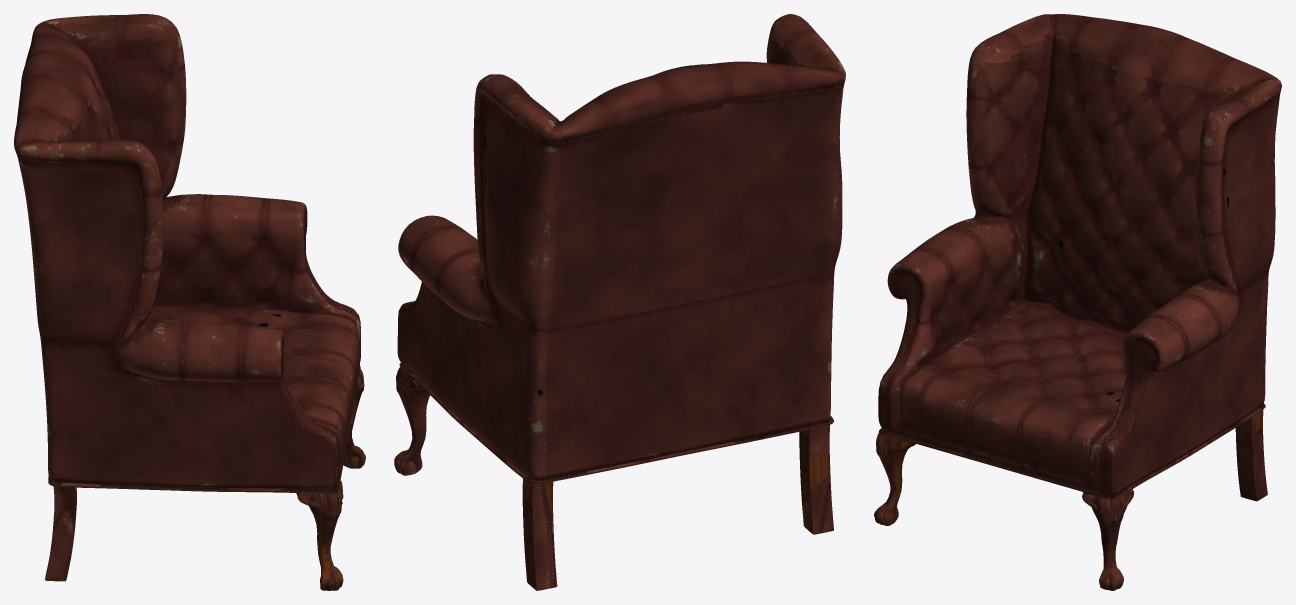
3 renders of one model, left to right at view 1: azimuth 30°, elevation 25°; view 2: azimuth 150°, elevation 25°; view 3: azimuth 270°, elevation 25°, orthographic. The views are drawn at different scales.
Parts seen in each view (by area): view 1: Object_6.003_Baked; view 2: Object_6.003_Baked; view 3: Object_6.003_Baked.
Boxes of the visible parts, box(x1,y1,x2,y2) form: Object_6.003_Baked: box(14, 14, 365, 590); Object_6.003_Baked: box(394, 14, 845, 590); Object_6.003_Baked: box(874, 14, 1281, 590).
Bounding box in the file's own units: 79.92 × 91.26 × 79.21.
Materials: 1 (1 with a texture image).
